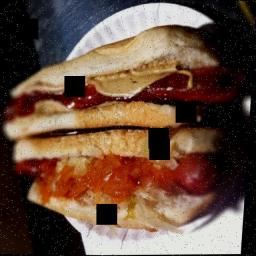hotdog: (8, 63, 249, 120), (15, 153, 228, 196)
